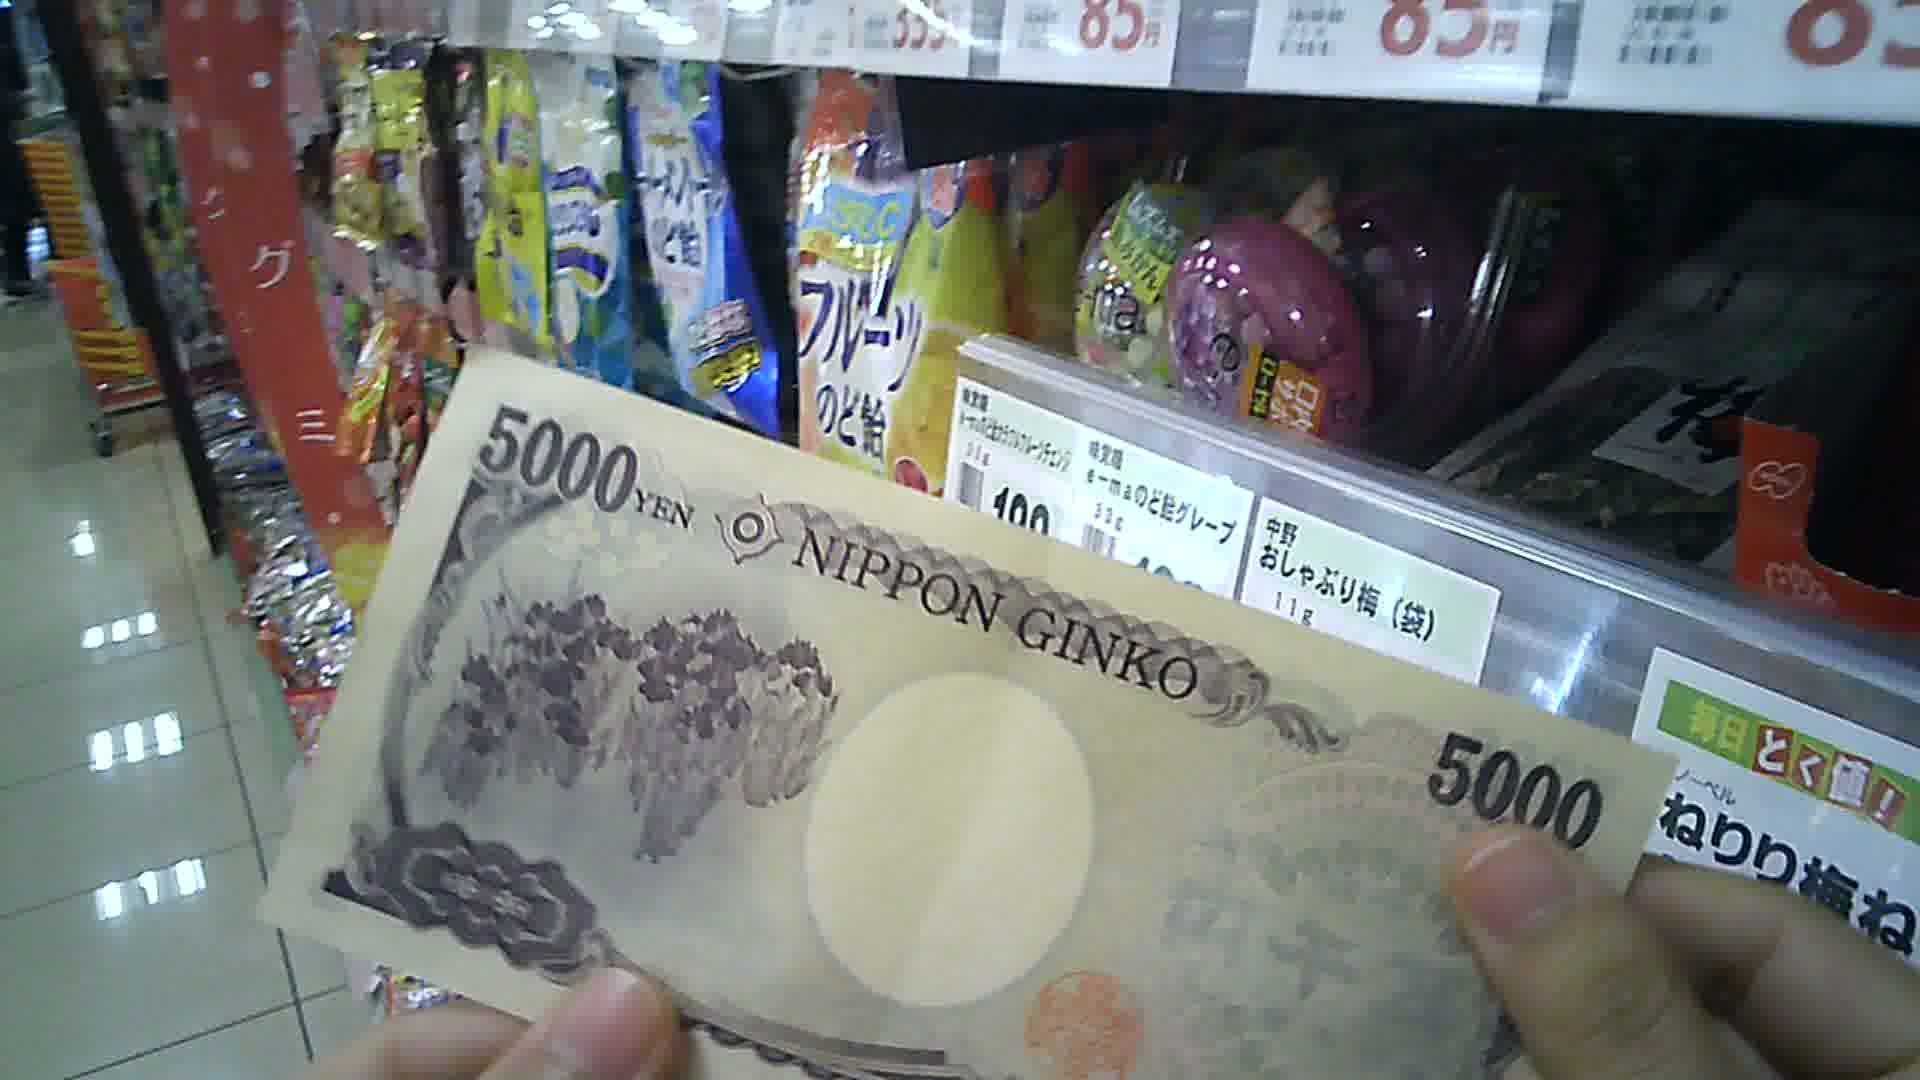5,000 Yen: (243, 338, 1634, 1079)
